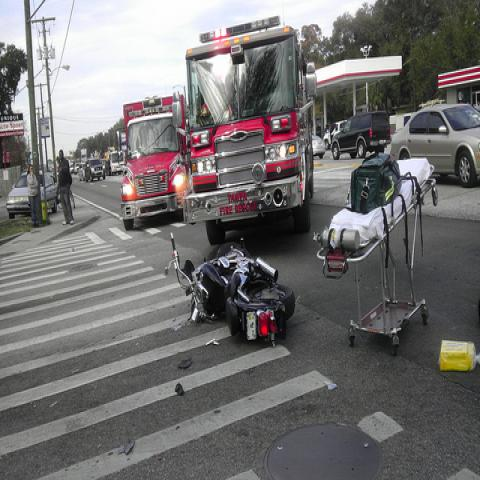car: (391, 101, 479, 188), (6, 168, 58, 220), (323, 120, 347, 150), (312, 133, 326, 160), (78, 163, 85, 181), (74, 162, 81, 174), (69, 167, 74, 174)
motorcycle: (162, 231, 296, 350)
truck: (181, 14, 317, 246), (121, 98, 192, 230), (330, 110, 392, 160), (85, 158, 105, 182)
